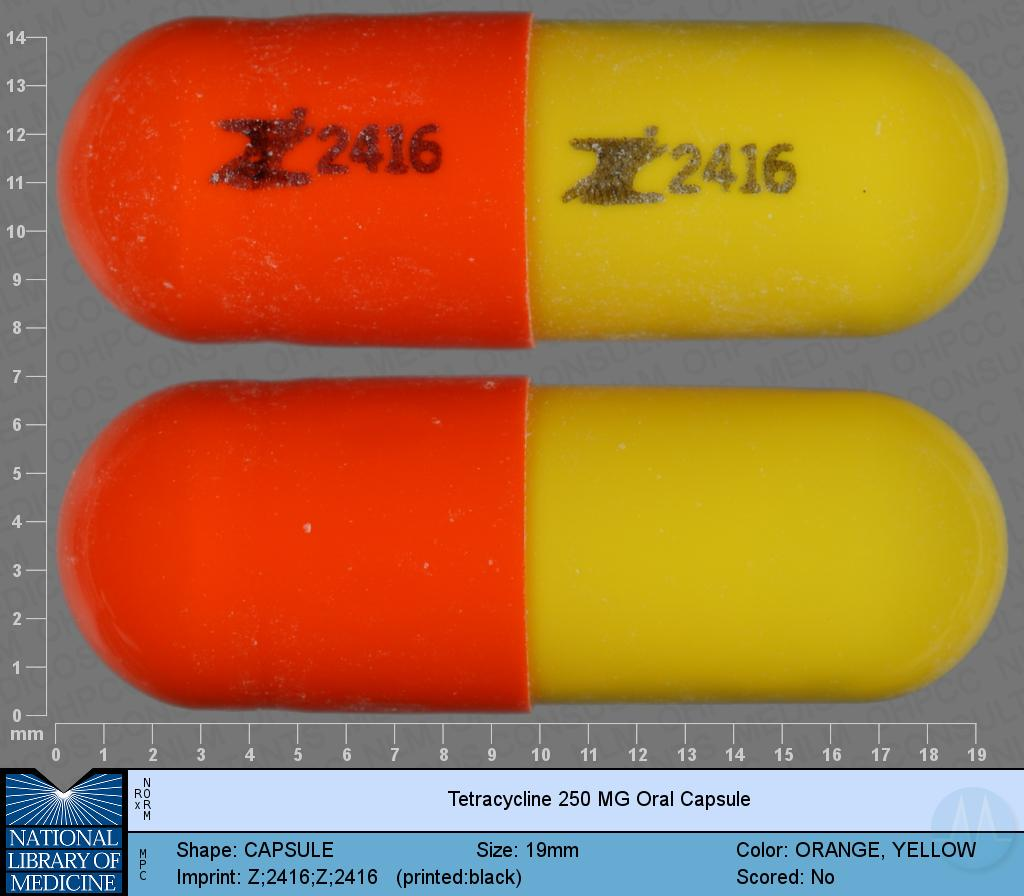Pill: (50, 10, 1020, 360), (50, 377, 1020, 723)
